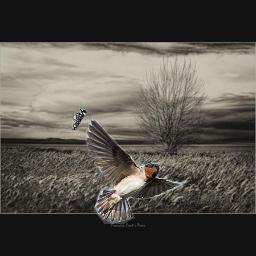Swallow: (85, 117, 190, 224)
Woodpecker: (68, 107, 87, 130)
